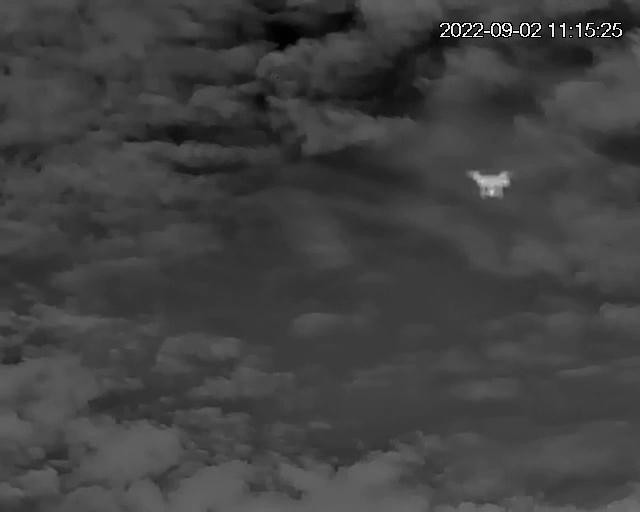DJI-Phantom: (468, 167, 514, 201)
